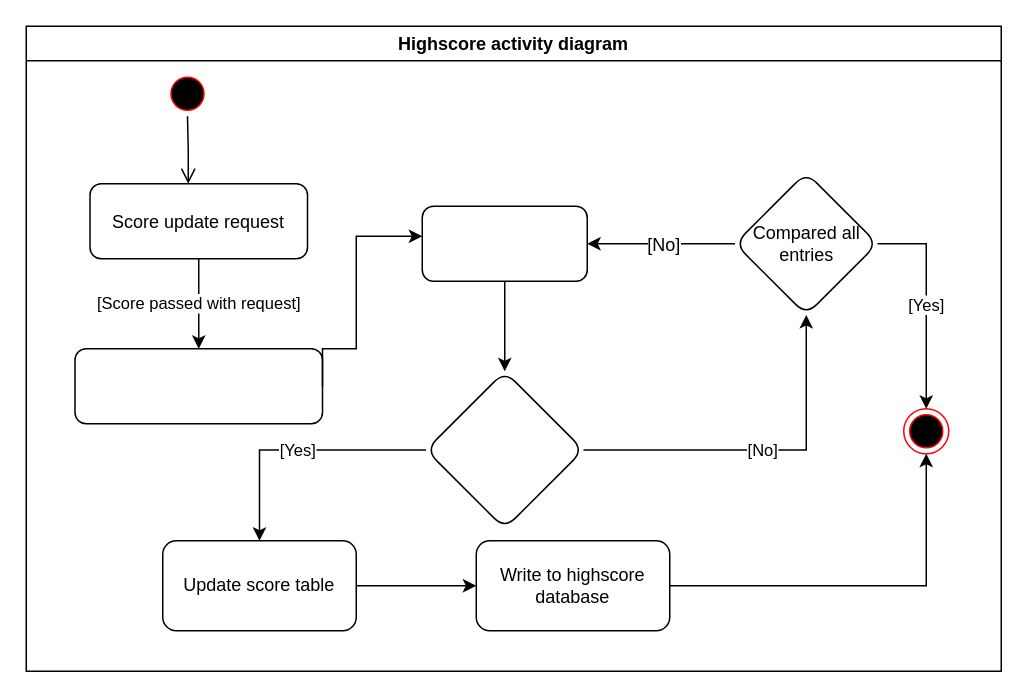
Image size: 1028x698. Some labels were removed from this diagram. The centre of each missing label's shape, as x and y in pixels:
Load scores from database: (x=198, y=385)
Score evaluation: (x=504, y=243)
Score greater than Highscore entry: (x=504, y=449)
